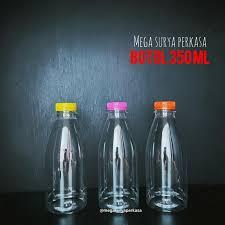BIODEGRADABLE: (31, 96, 91, 216), (97, 102, 148, 216), (146, 98, 193, 212)
